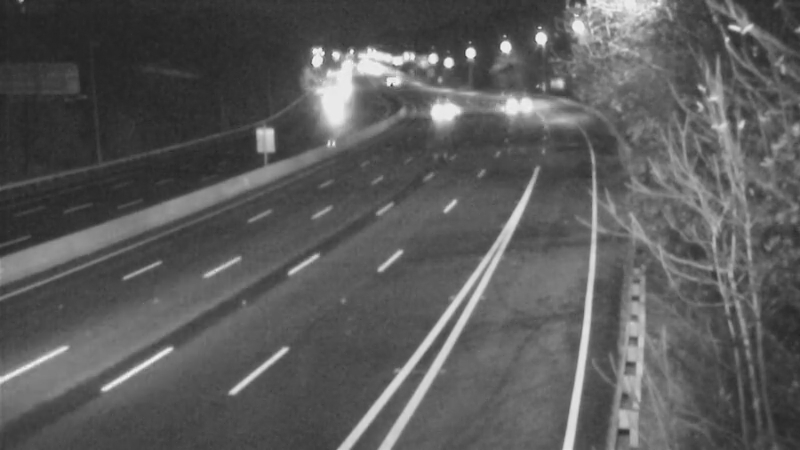vehicle: (362, 57, 412, 107), (487, 80, 537, 130), (419, 81, 469, 131), (301, 76, 351, 126)
